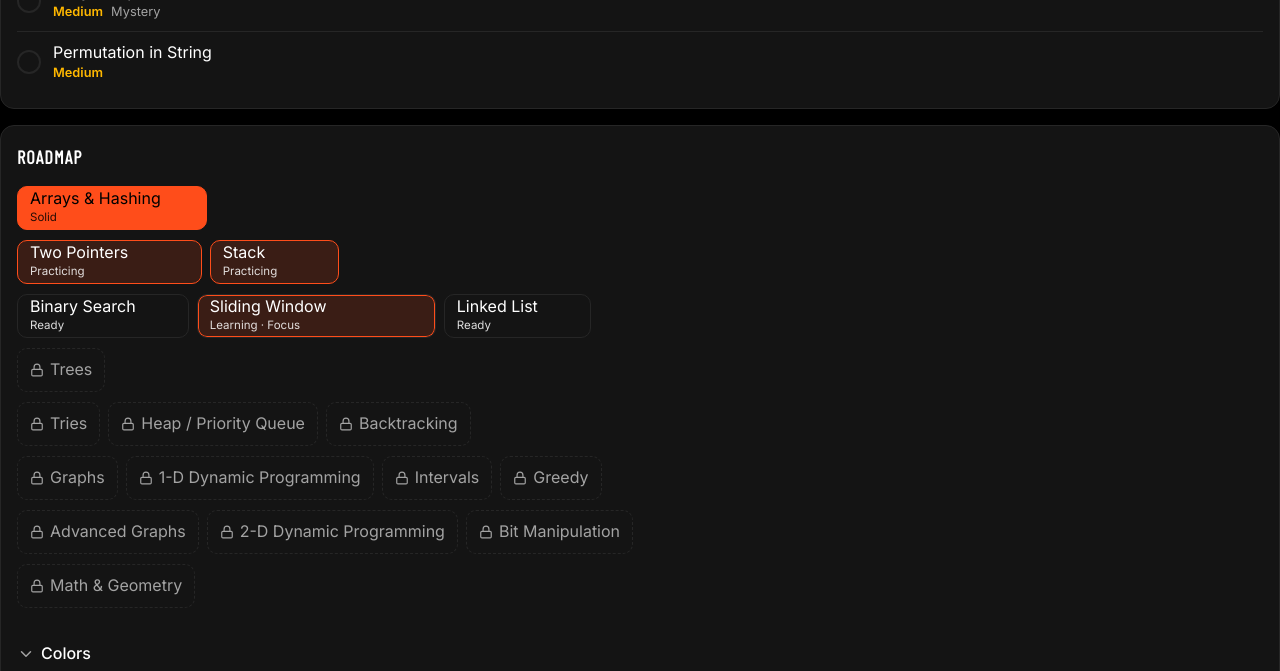
Test: LeetCode › shows an error when the focus change fails
(page scrolled)
Click the button with aria-label "Binary Search, Ready": (103, 316) [17,294,189,338]
(page scrolled)
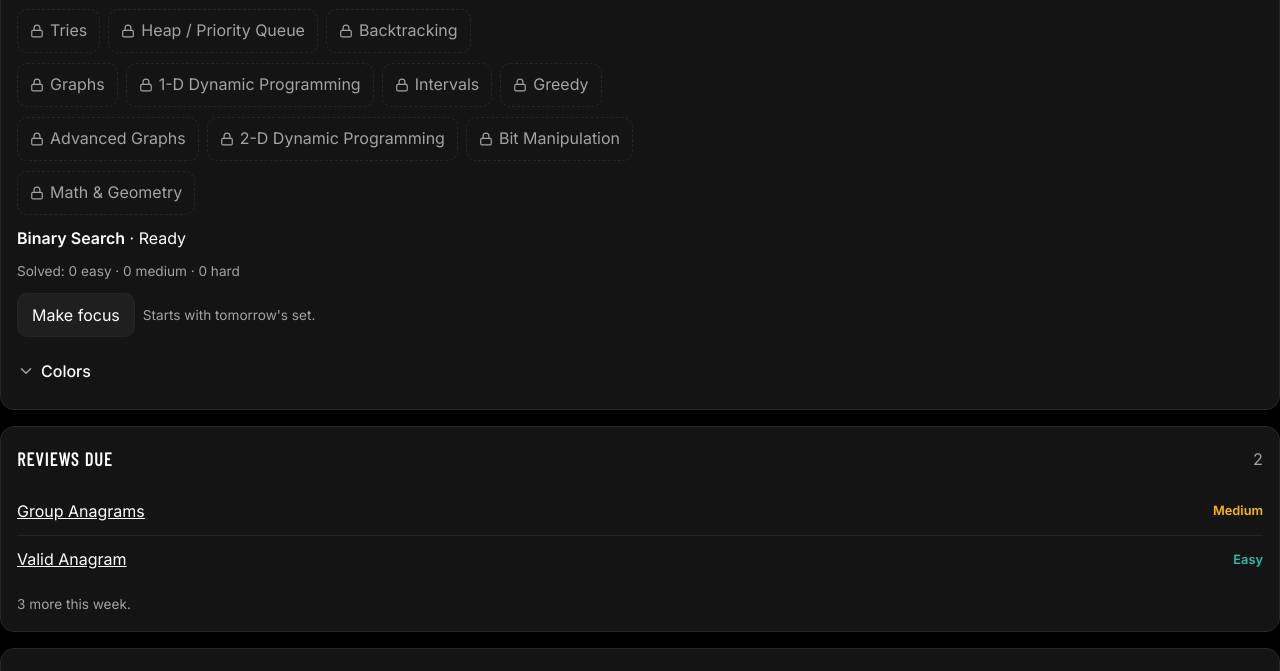
Click the button "Make focus": (76, 315) [17,293,135,337]
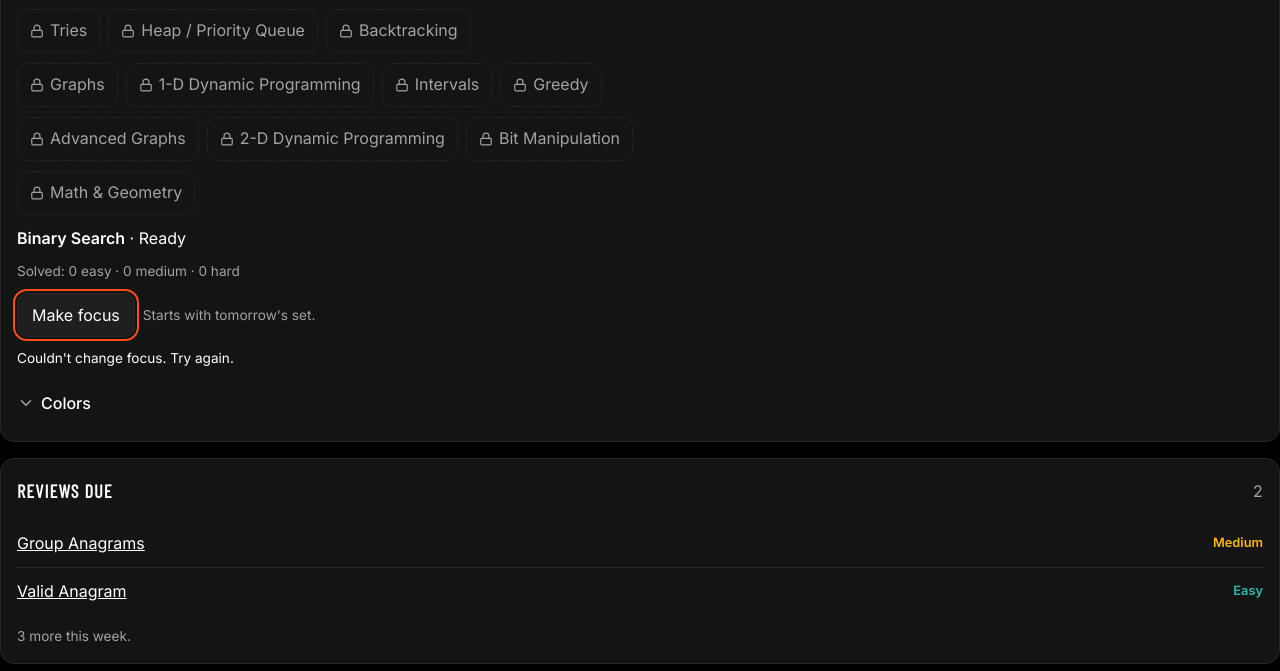
Now the text "Couldn't change focus. Try again." is shown, box [17,350,234,366]
